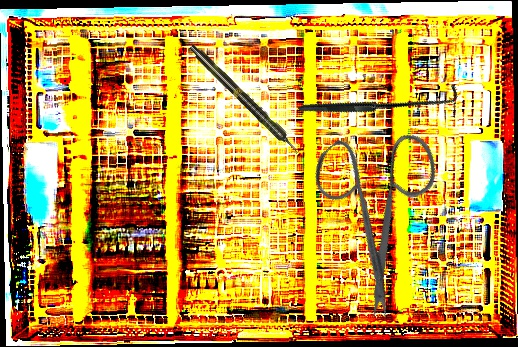Handpiece: (186, 41, 303, 158)
Hook Surgical: (297, 17, 462, 182)
Iris Scissors: (269, 97, 497, 327)
